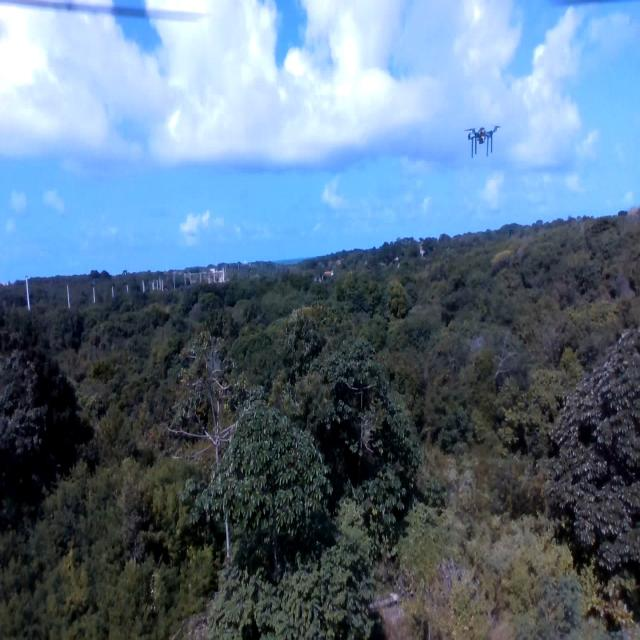-uav-: (458, 112, 507, 164)
